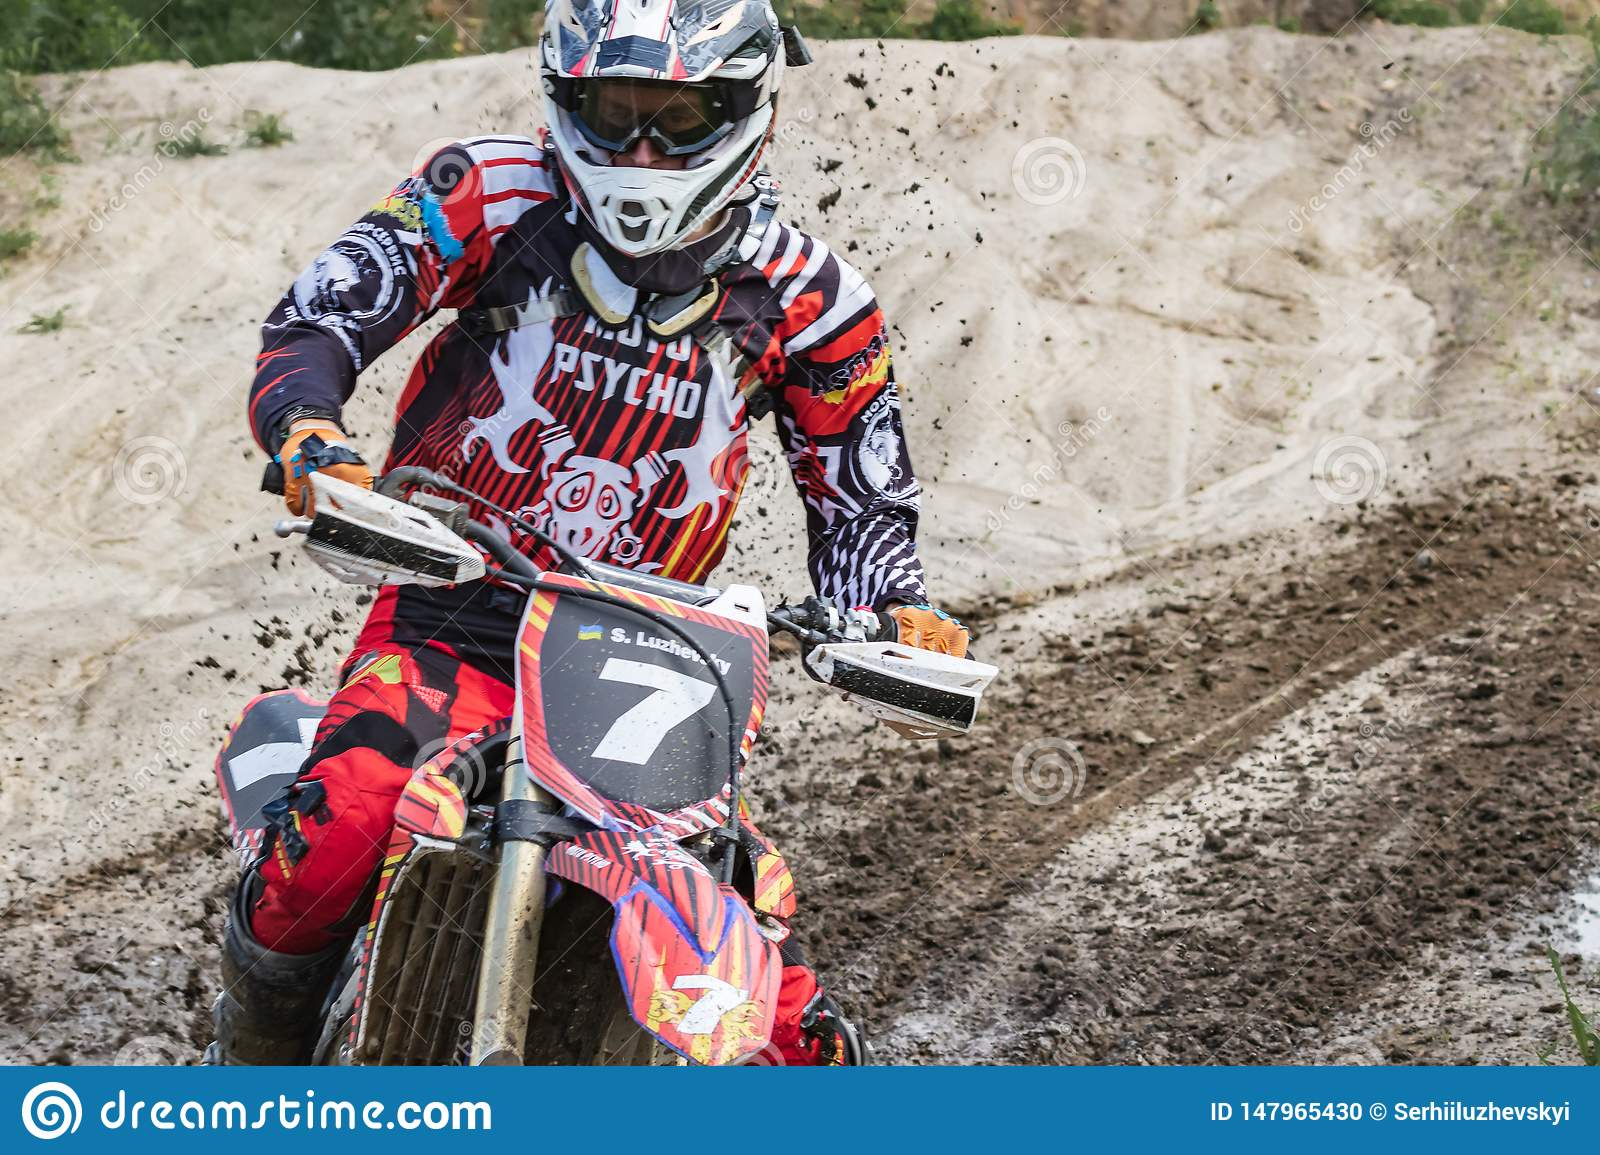helmet: (532, 6, 773, 240)
